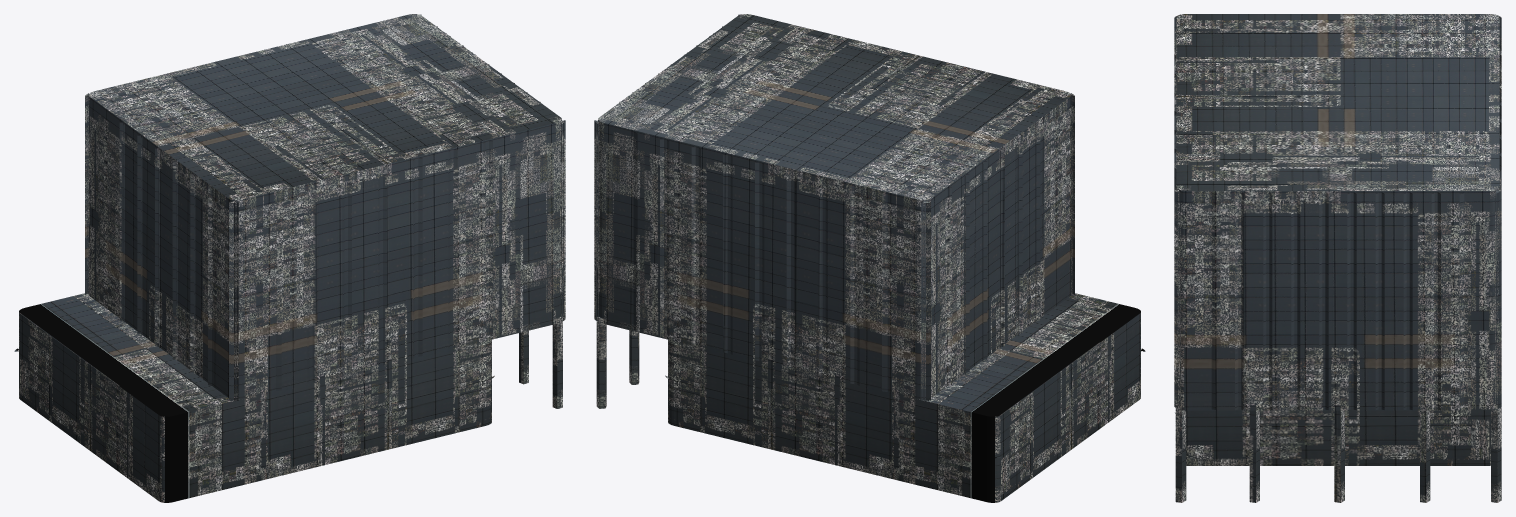
File: BuildingC.fbx
3 views of the same model, side by side, from view 1: azimuth 30°, elevation 25°; view 2: azimuth 150°, elevation 25°; view 3: azimuth 270°, elevation 25° (orthographic). The views are drawn at different scales.
Parts seen in each view (by area): view 1: Cube.015; view 2: Cube.015; view 3: Cube.015.
Part boxes in pixels (x1,y1,x2,y2): Cube.015: [14, 14, 565, 502]; Cube.015: [594, 14, 1145, 502]; Cube.015: [1174, 14, 1501, 502].
Size of the model in its own units: 251 by 168 by 160.
1 material, 1 textured.
